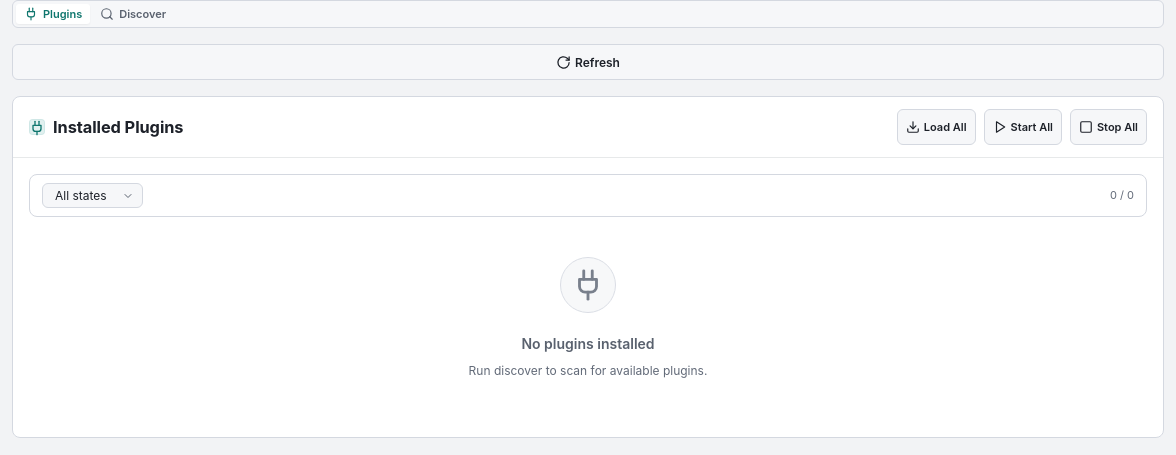
Test case: Plugins.vue › switches to discover tab when clicked
# tabOptions: list, discover → discover is index 1
Click the radio button with class "segmented__item" showing "Discover" at [133, 14], box left=92, top=4, right=174, bottom=24
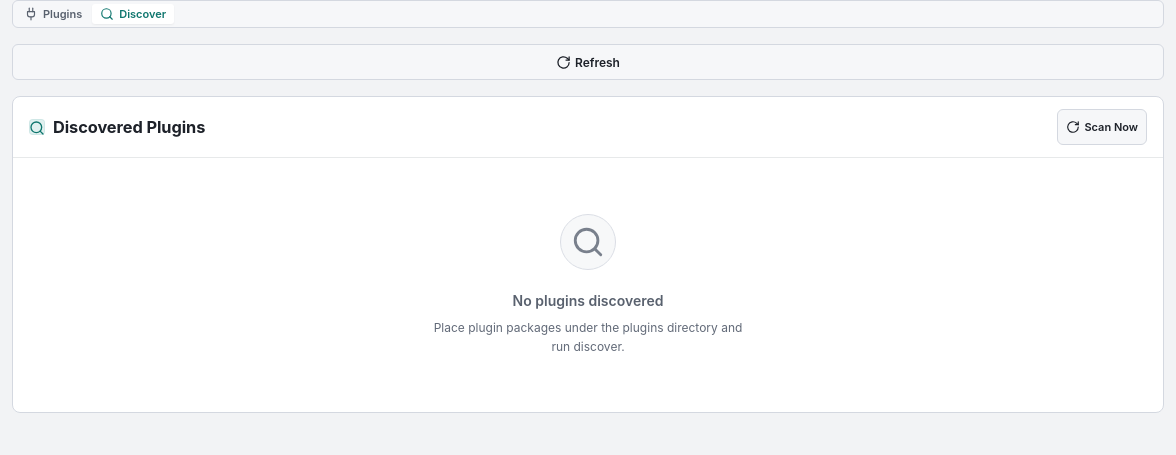
Expected: the text "Discovered Plugins" is shown, left=53, top=115, right=205, bottom=139
